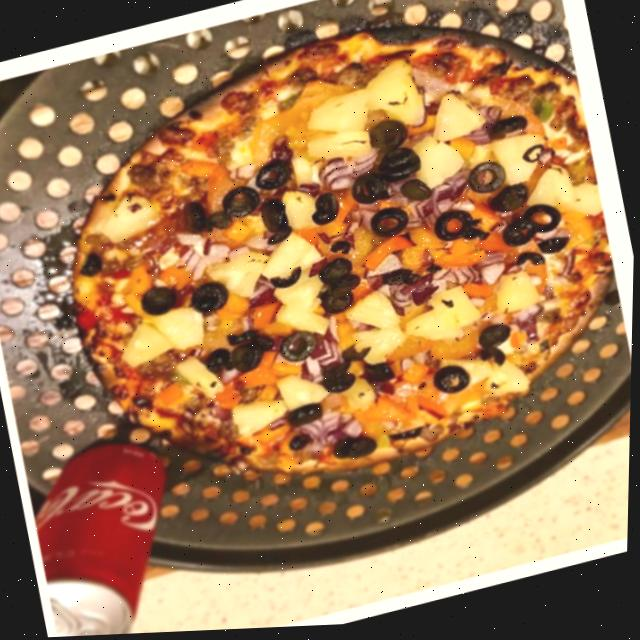black_olives: (201, 326, 279, 384), (311, 256, 369, 322), (429, 204, 494, 259), (180, 195, 234, 242), (254, 196, 297, 250), (483, 182, 537, 221), (373, 145, 423, 187), (186, 277, 233, 320), (365, 205, 413, 247), (216, 182, 264, 224), (463, 160, 509, 203), (520, 202, 566, 244), (495, 217, 541, 259), (364, 117, 411, 158), (329, 433, 379, 470), (317, 359, 360, 402), (429, 363, 475, 403), (275, 328, 321, 368), (346, 171, 392, 211), (137, 283, 180, 321), (250, 158, 293, 196), (306, 190, 344, 231), (377, 266, 422, 297), (286, 401, 329, 433), (474, 324, 517, 356), (488, 114, 532, 145), (396, 177, 436, 210), (361, 359, 398, 392), (534, 236, 572, 266), (267, 267, 305, 297), (477, 346, 512, 378), (341, 342, 377, 370), (389, 425, 427, 450), (512, 251, 548, 277), (78, 251, 109, 281), (285, 433, 315, 459), (326, 237, 355, 263), (519, 145, 550, 169), (423, 264, 445, 283), (438, 297, 456, 314)
pizza: (29, 0, 640, 533)
